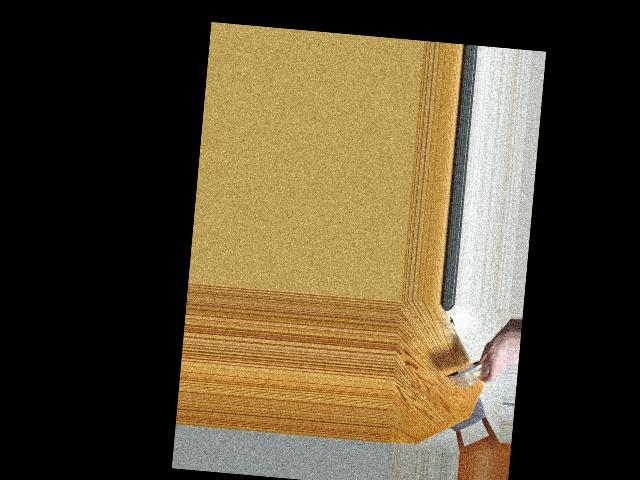cheese: (447, 358, 492, 389)
